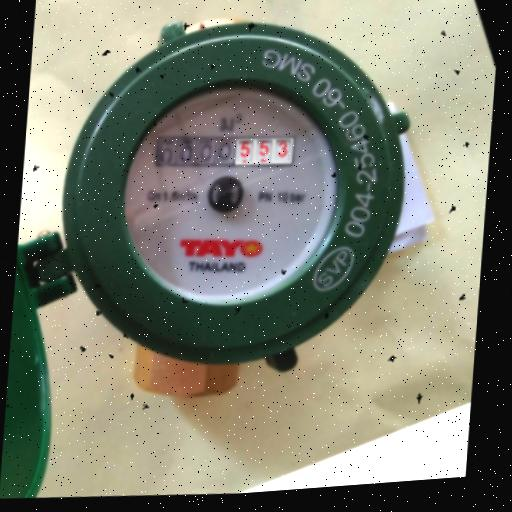0: (158, 139, 174, 165), (177, 139, 193, 164), (197, 139, 213, 164), (216, 139, 231, 164)
3: (274, 139, 289, 163)
5: (237, 141, 252, 163), (255, 141, 270, 163)
border_water_meter_number: (154, 126, 295, 177)
